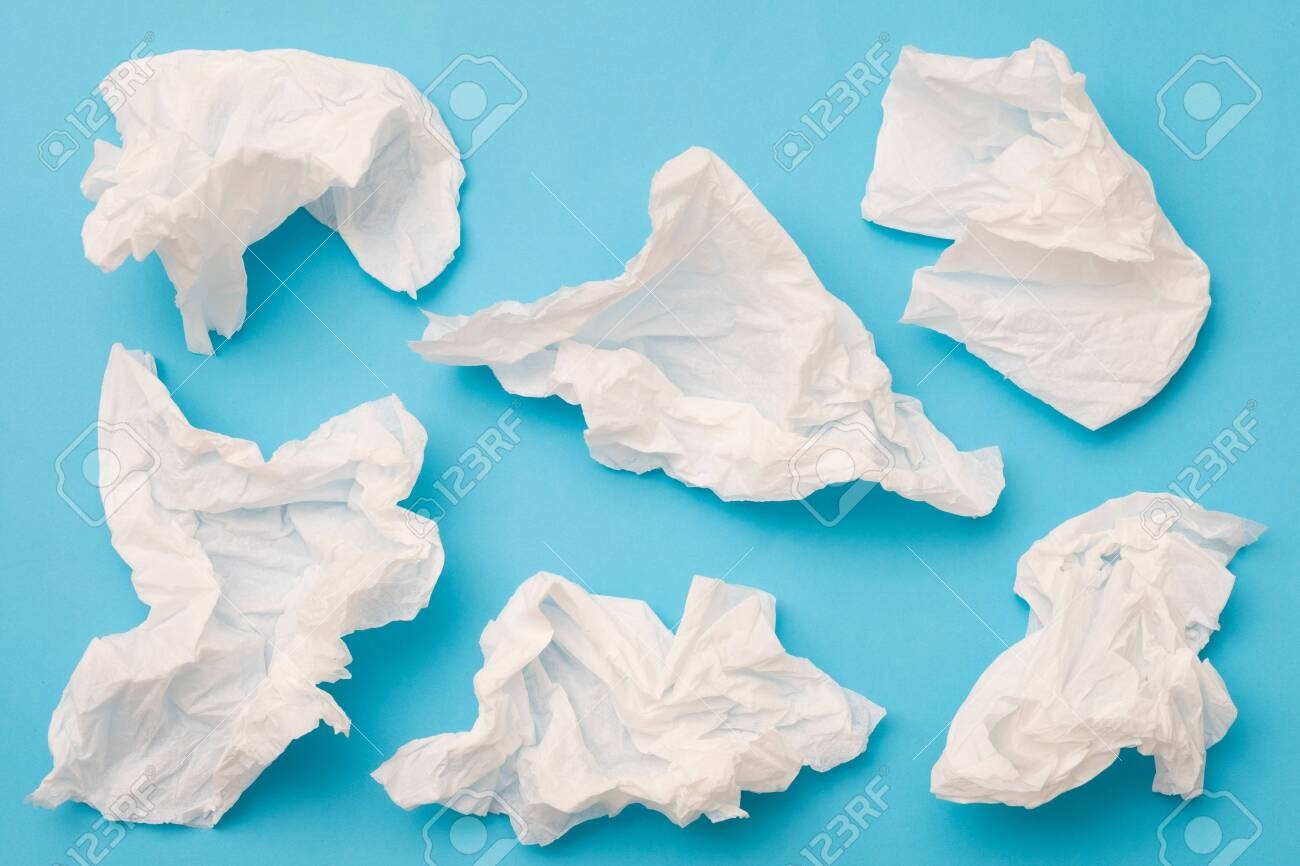paper: (397, 127, 1017, 548), (13, 323, 452, 840), (354, 557, 908, 854), (854, 26, 1221, 451), (63, 34, 472, 364), (903, 479, 1275, 835)
